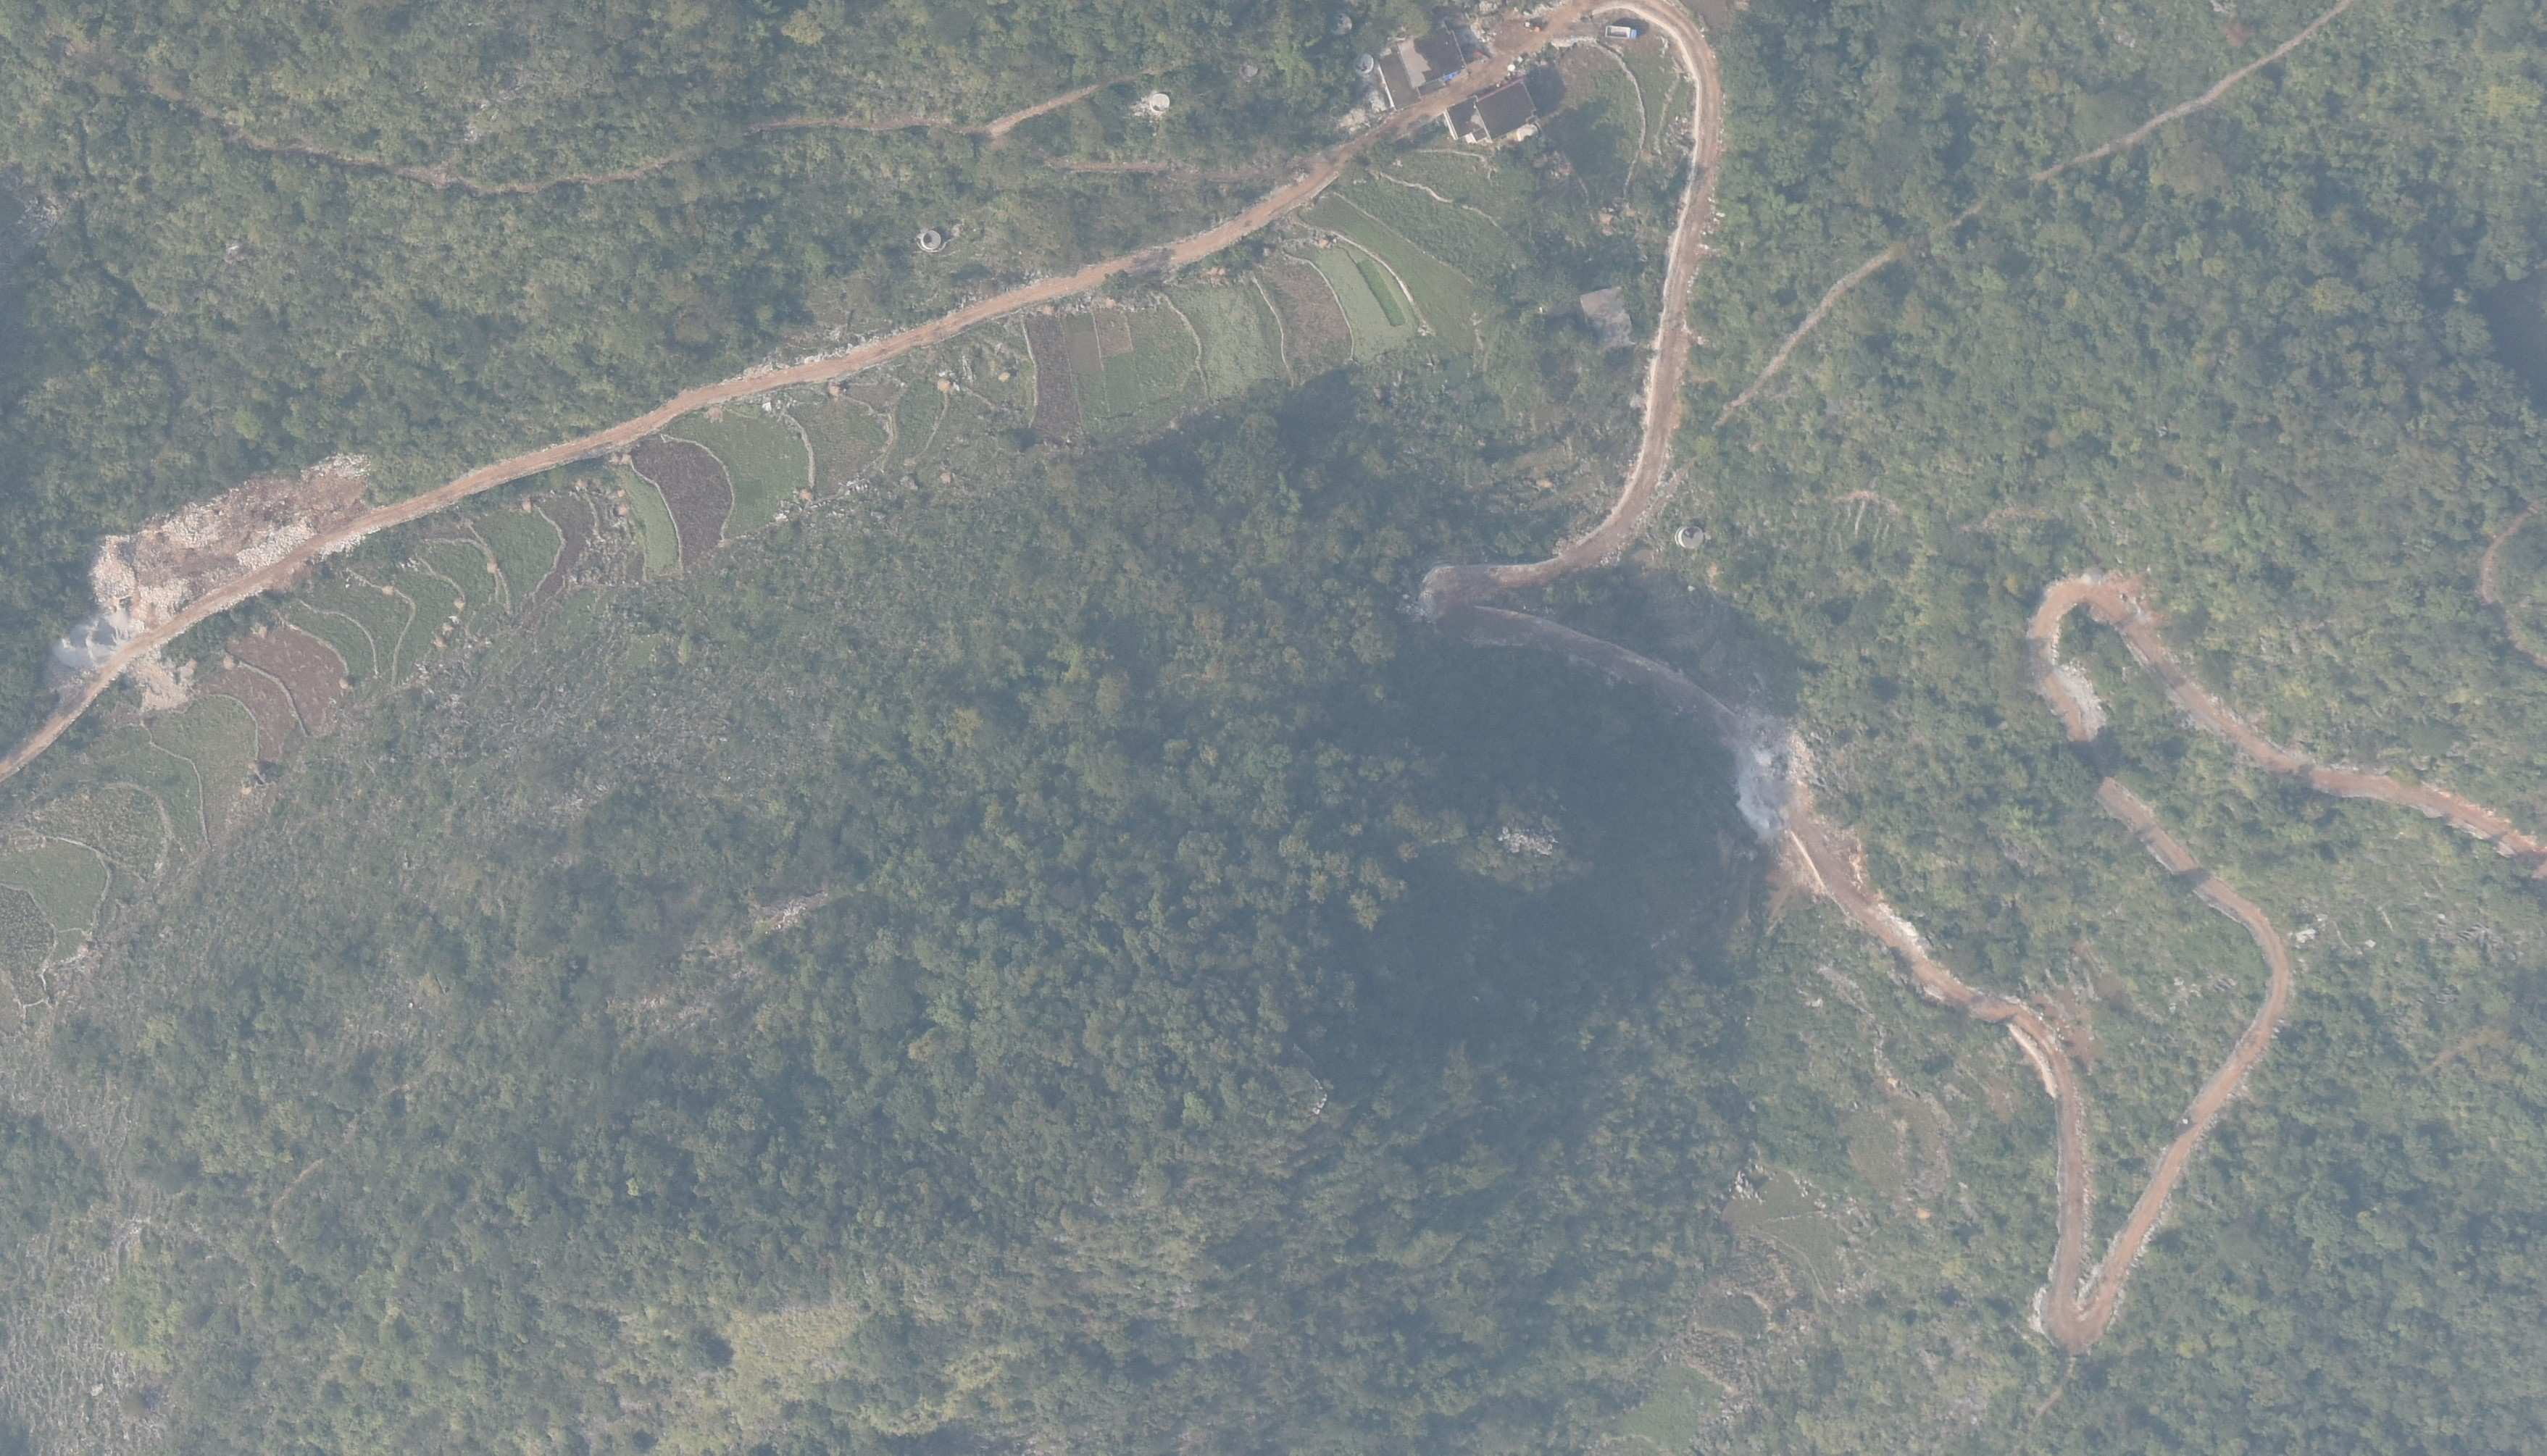building: (1394, 24, 1469, 93), (1578, 283, 1639, 355), (1475, 77, 1539, 140), (1377, 52, 1427, 114), (1441, 93, 1496, 142)
vehicle: (1604, 21, 1641, 42), (1506, 52, 1525, 72), (1522, 19, 1541, 33), (1471, 49, 1490, 63)
well: (1674, 521, 1704, 554), (1324, 7, 1352, 37), (1350, 51, 1377, 75), (1149, 91, 1174, 115), (1515, 122, 1539, 143), (918, 229, 943, 250), (1237, 59, 1263, 77)
